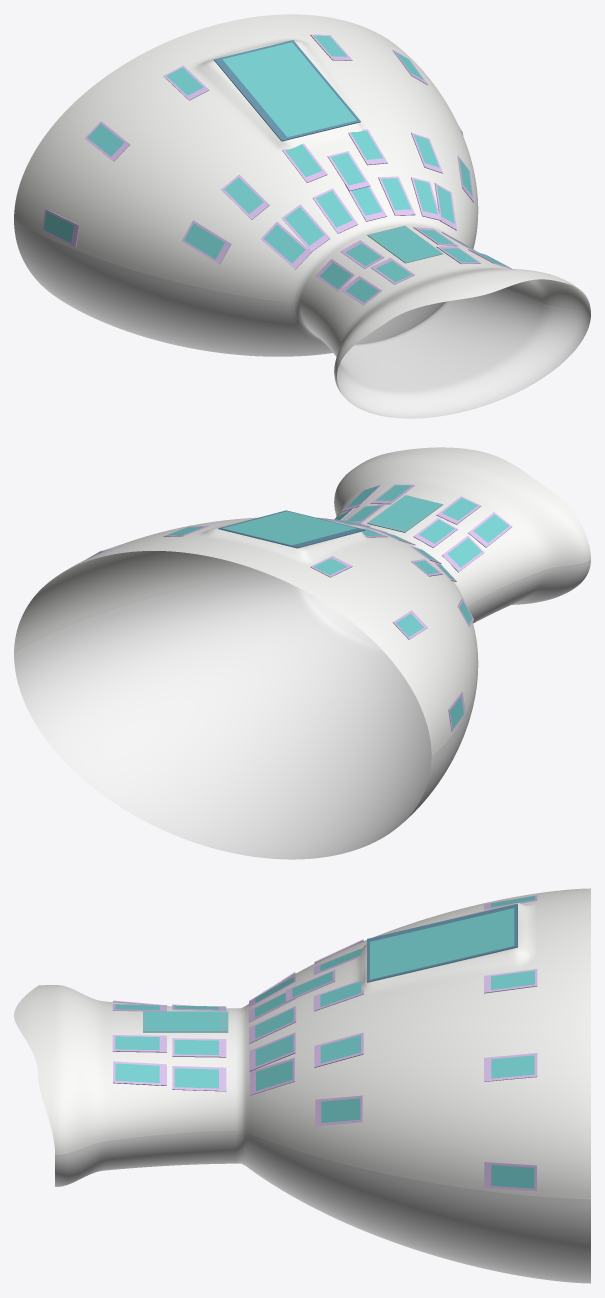
The model's file is dress-shell.glb.
The picture shows the model from 3 angles, top to bottom: view 1: azimuth 30°, elevation 25°; view 2: azimuth 150°, elevation 25°; view 3: azimuth 270°, elevation 25°; orthographic projection. The views are drawn at different scales.
Parts seen in each view (by area): view 1: shell/FRONT, shell/BACK, panels/facet-750, panels/bod-370, panels/up-55~twin, panels/mid-70~twin, panels/up-40~twin, panels/mid-45~twin, panels/up-20~twin, panels/lo-55~twin, panels/mid-15~twin, panels/cf-mid (+13 smaller); view 2: shell/BACK, shell/FRONT, panels/facet-750, panels/bod-370, panels/bod-b50~twin, panels/bod-a55~twin, panels/bod-a30~twin, panels/bod-b25~twin, panels/lo-55~twin; view 3: shell/FRONT, shell/BACK, panels/facet-750, panels/bod-370, panels/lo-85, panels/bod-a55, panels/lo-55, panels/mid-70, panels/bod-b50, panels/up-55, panels/mid-45, panels/bod-a30 (+6 smaller).
Boxes of the visible parts, x1=… form: shell/FRONT: x1=14, y1=14, x2=590, y2=375; shell/BACK: x1=14, y1=219, x2=590, y2=418; panels/facet-750: x1=214, y1=40, x2=360, y2=141; panels/bod-370: x1=367, y1=225, x2=442, y2=263; panels/up-55~twin: x1=261, y1=222, x2=311, y2=269; panels/mid-70~twin: x1=181, y1=220, x2=231, y2=264; panels/up-40~twin: x1=281, y1=204, x2=330, y2=252; panels/mid-45~twin: x1=221, y1=174, x2=269, y2=219; panels/up-20~twin: x1=312, y1=188, x2=357, y2=233; panels/lo-55~twin: x1=85, y1=121, x2=130, y2=161; panels/mid-15~twin: x1=282, y1=143, x2=327, y2=182; panels/cf-mid: x1=327, y1=151, x2=370, y2=191; shell/BACK: x1=14, y1=503, x2=590, y2=859; shell/FRONT: x1=14, y1=447, x2=590, y2=755; panels/facet-750: x1=218, y1=510, x2=365, y2=548; panels/bod-370: x1=367, y1=495, x2=443, y2=532; panels/bod-b50~twin: x1=468, y1=512, x2=512, y2=547; panels/bod-a55~twin: x1=442, y1=535, x2=484, y2=572; panels/bod-a30~twin: x1=413, y1=518, x2=457, y2=547; panels/bod-b25~twin: x1=436, y1=496, x2=480, y2=524; panels/lo-55~twin: x1=392, y1=610, x2=427, y2=639; shell/FRONT: x1=14, y1=888, x2=590, y2=1199; shell/BACK: x1=55, y1=1130, x2=590, y2=1283; panels/facet-750: x1=367, y1=903, x2=517, y2=982; panels/bod-370: x1=143, y1=1011, x2=228, y2=1032; panels/lo-85: x1=484, y1=1162, x2=536, y2=1191; panels/bod-a55: x1=172, y1=1066, x2=226, y2=1091; panels/lo-55: x1=484, y1=1053, x2=537, y2=1081; panels/mid-70: x1=315, y1=1095, x2=362, y2=1126; panels/bod-b50: x1=113, y1=1061, x2=166, y2=1085; panels/up-55: x1=250, y1=1057, x2=295, y2=1095; panels/mid-45: x1=314, y1=1032, x2=363, y2=1067; panels/bod-a30: x1=172, y1=1038, x2=226, y2=1057.
Size of the model in its own units: 586 by 391 by 631.
